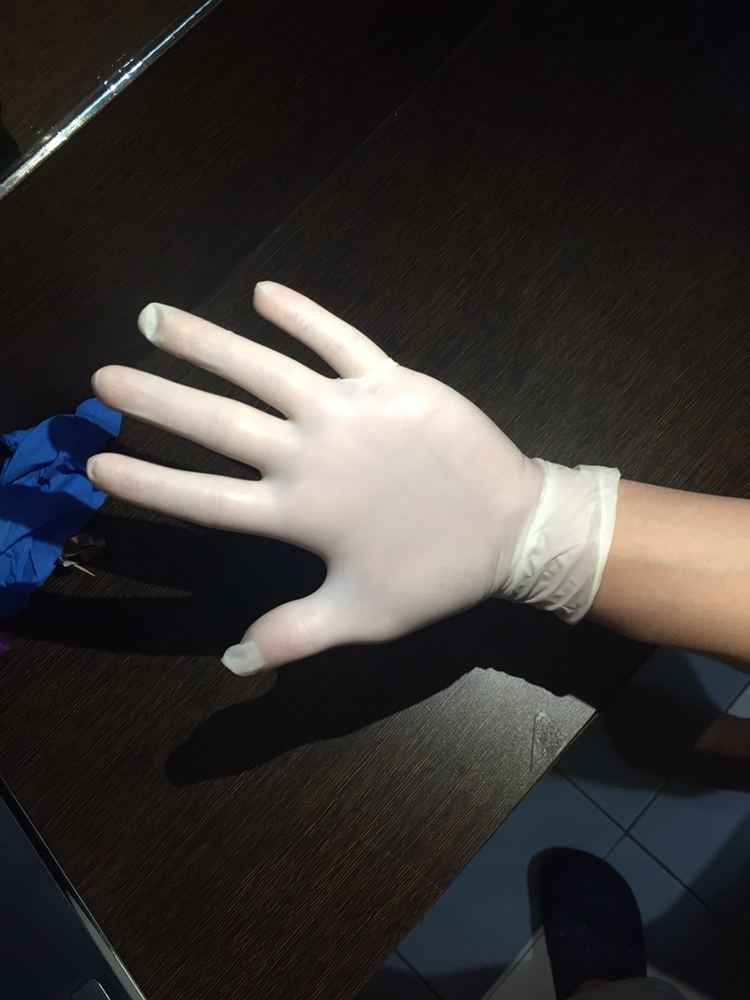glove: (60, 246, 562, 756)
